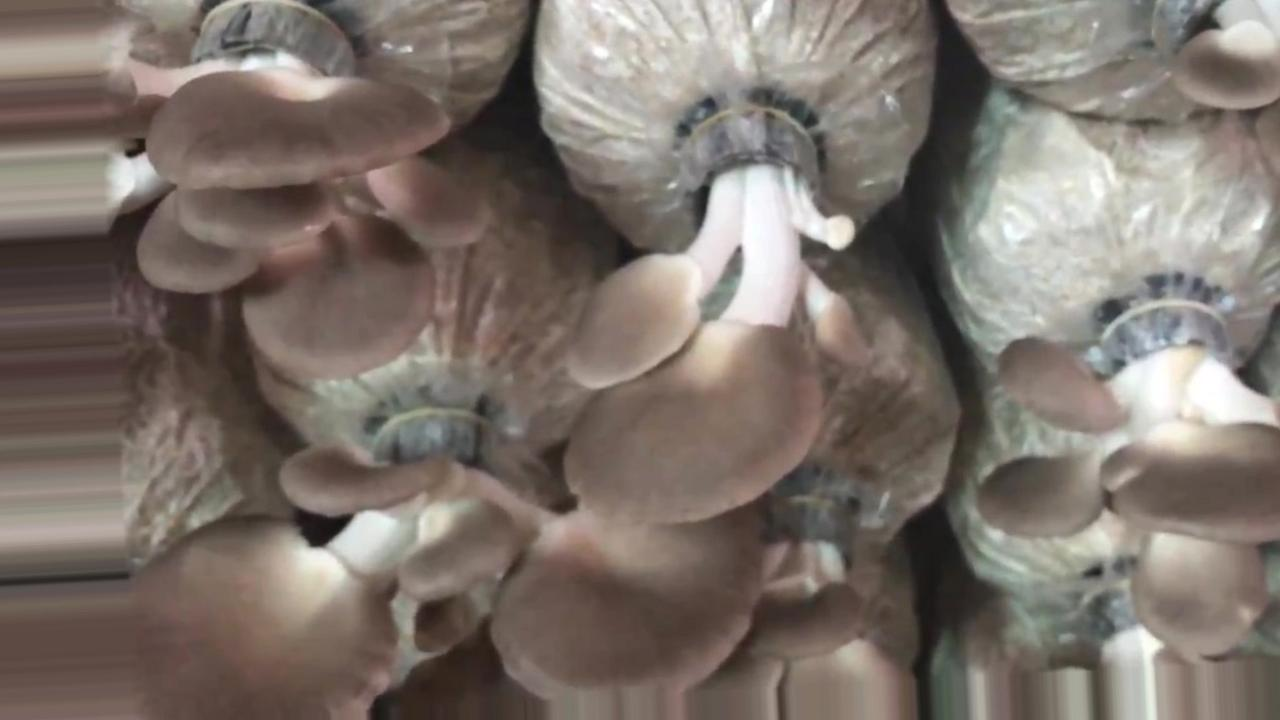nam: (1, 395, 763, 719), (135, 1, 500, 393), (563, 88, 873, 528), (957, 295, 1275, 659), (686, 484, 917, 720), (1168, 2, 1280, 110)
